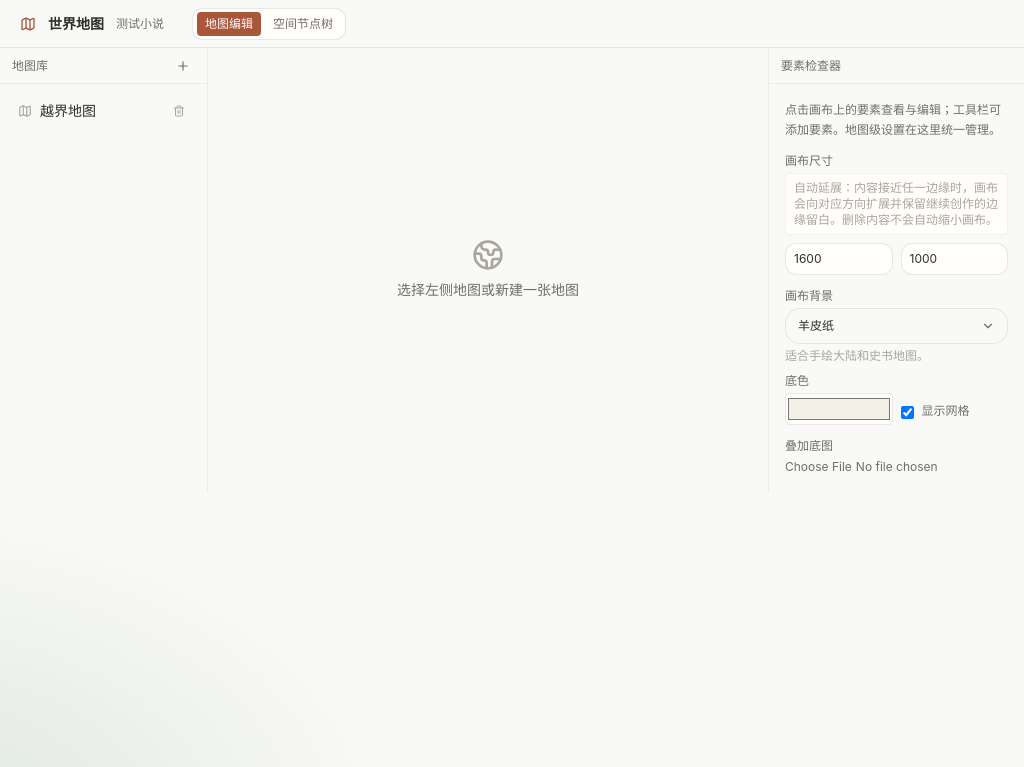
Scenario: MapEditor（地图阶段验收） › 打开历史越界内容时自动补齐画布尺寸
This screenshot has width=1024, height=767.
Click the button "越界地图" at (104, 110), box [8,92,199,129]
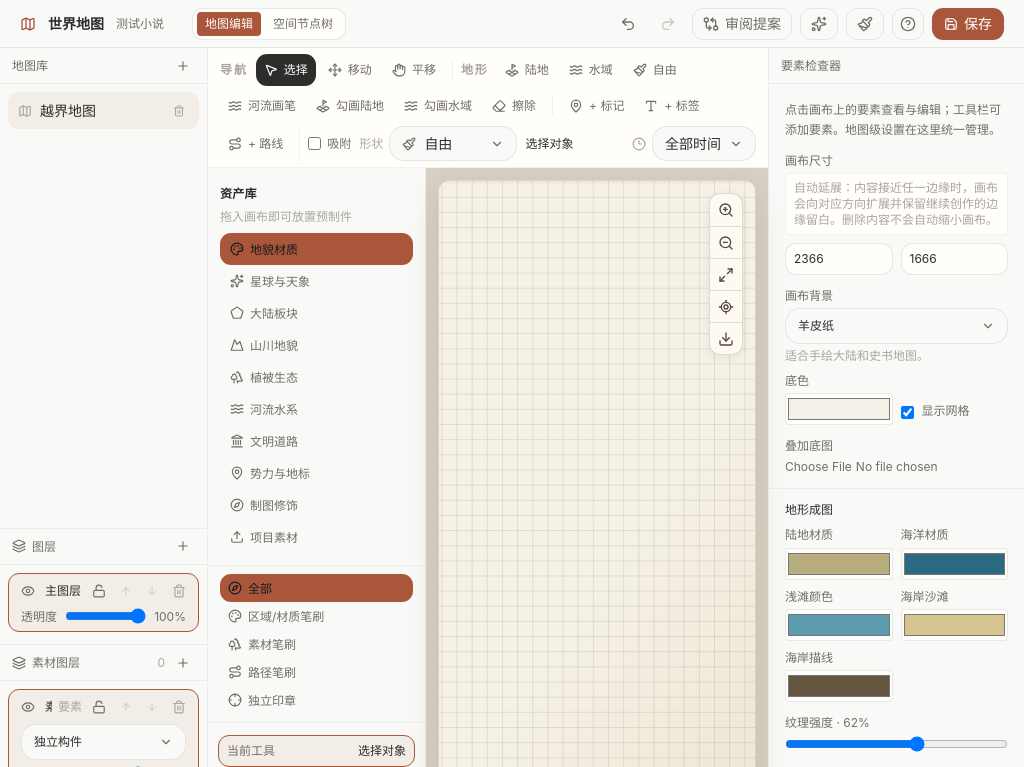
Now the button titled "导出高清 PNG（2366 × 1666）" is shown, box [710,322,742,354]
Now the button "保存" is enabled, box [932,8,1004,40]
